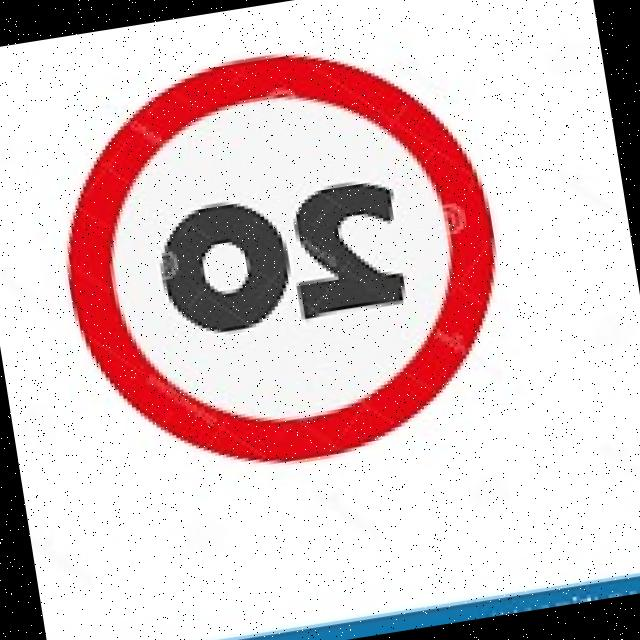speed_limit_20: (28, 16, 530, 493)
